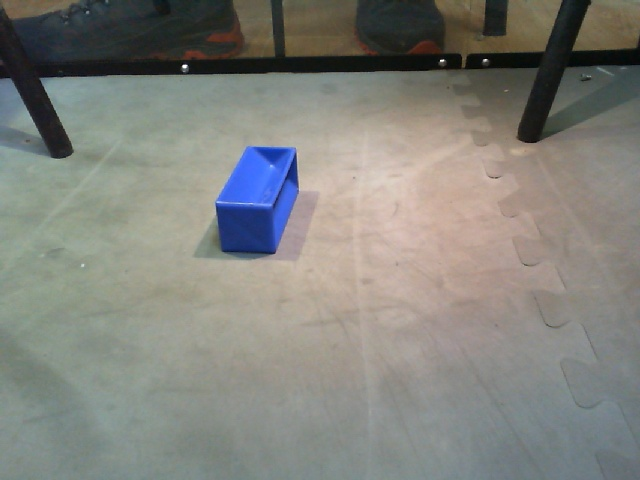BlueSample: (212, 141, 302, 261)
